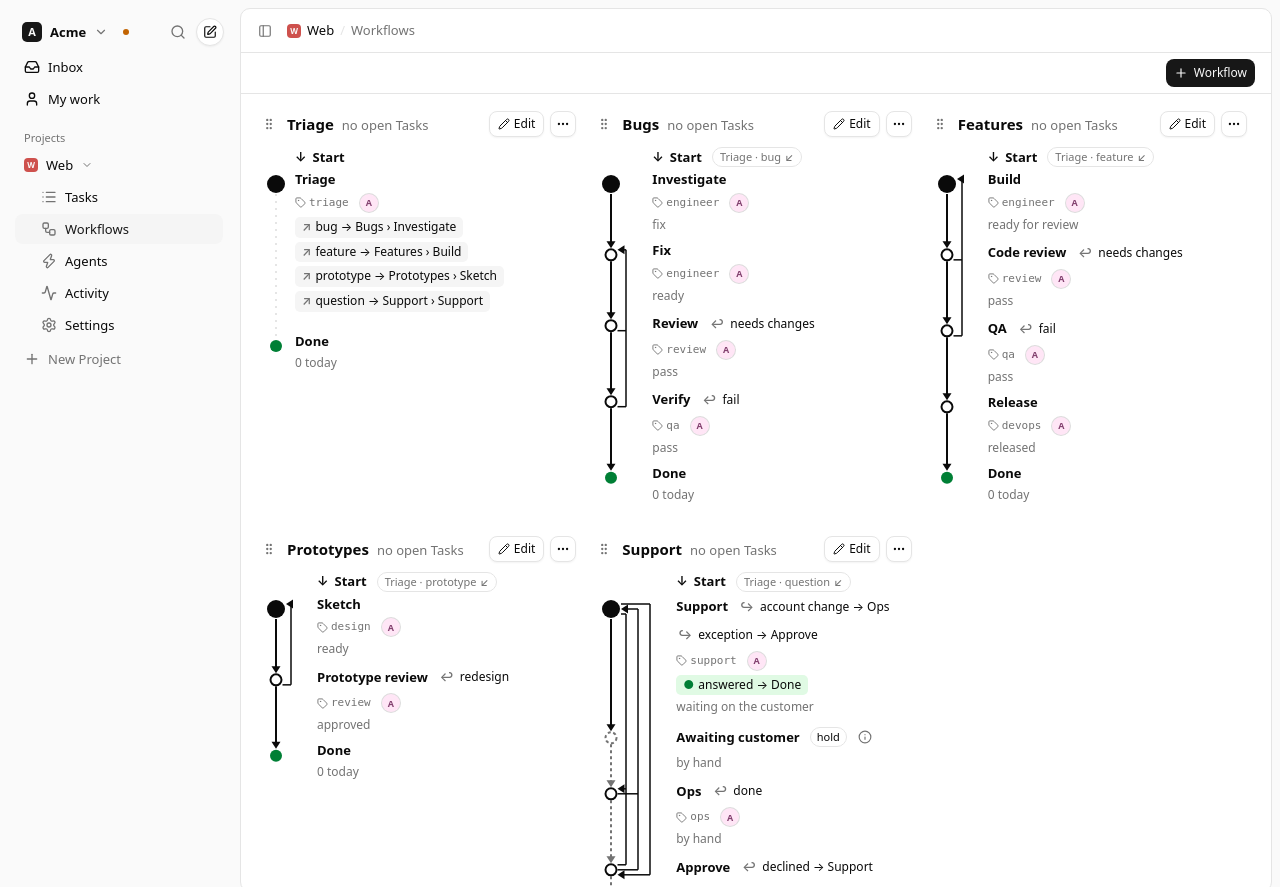
Test: the Workflows page of a Project of several › moves a Workflow later at once and says where New Tasks start when that changes
Click the button named "More for Triage" at (563, 124), box [550,111,576,137]
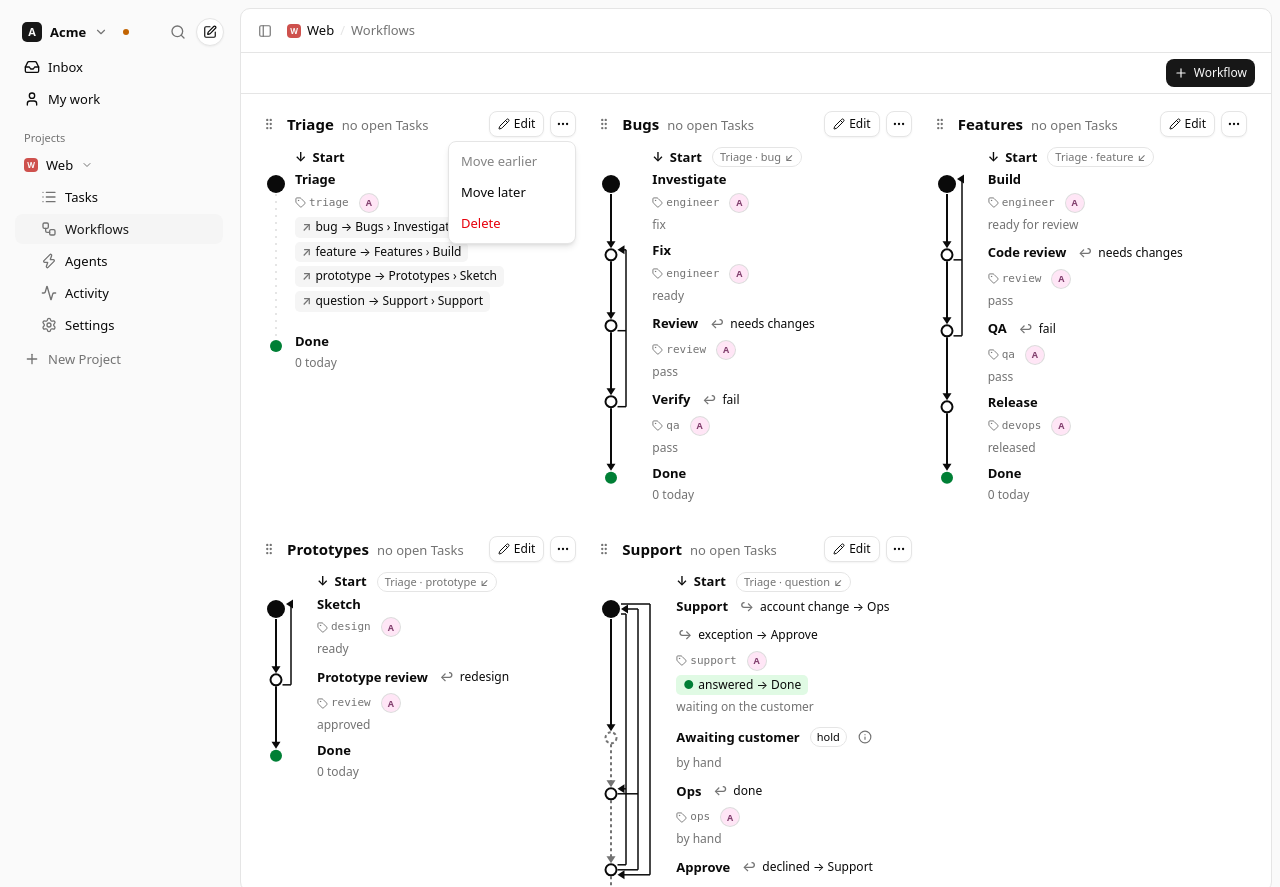
Click the menu item "Move later" at (493, 192), box [461,183,526,201]
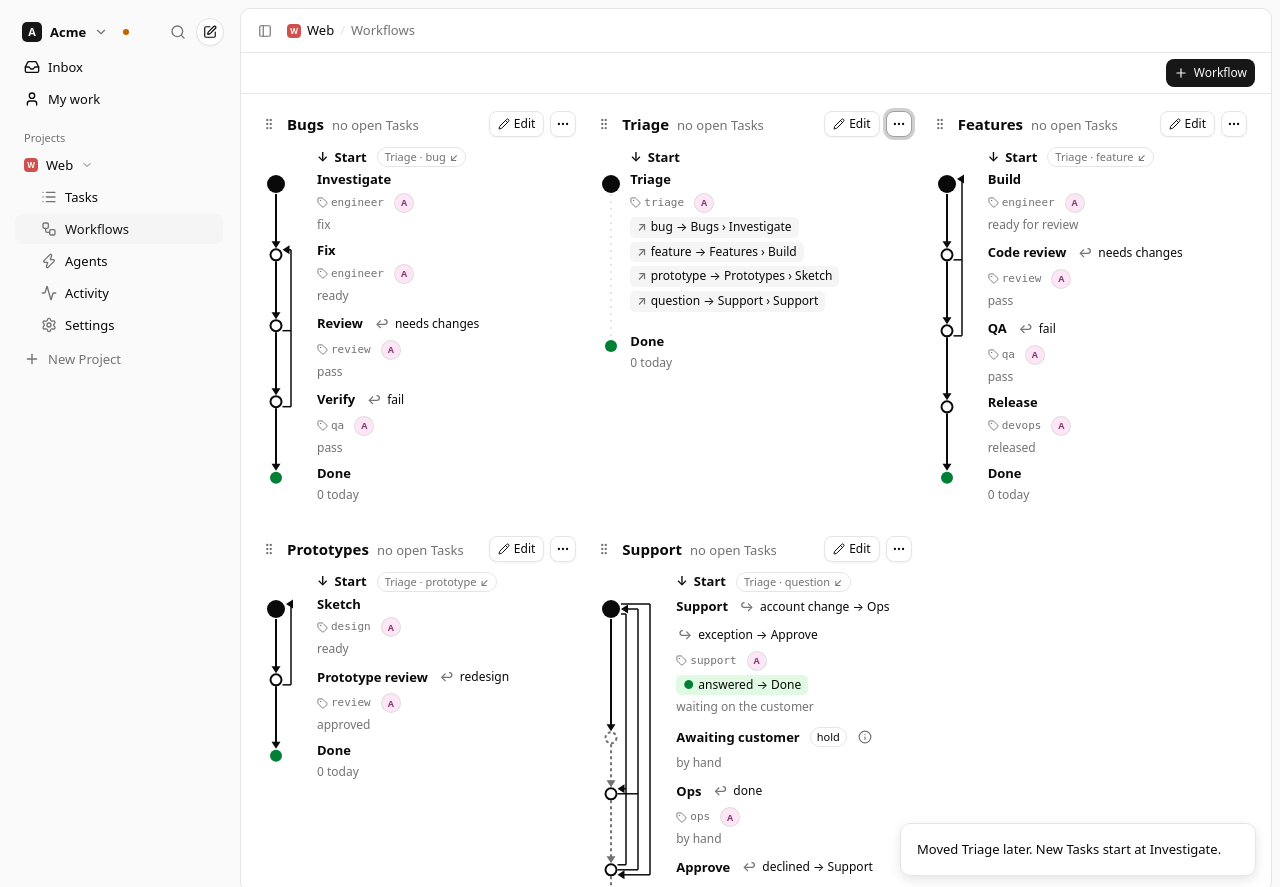
expect the text "Moved Triage later. New Tasks start at Investigate." is shown: met, box [917,840,1221,859]
Click the button named "More for Support" at (899, 548), box [886,536,912,562]
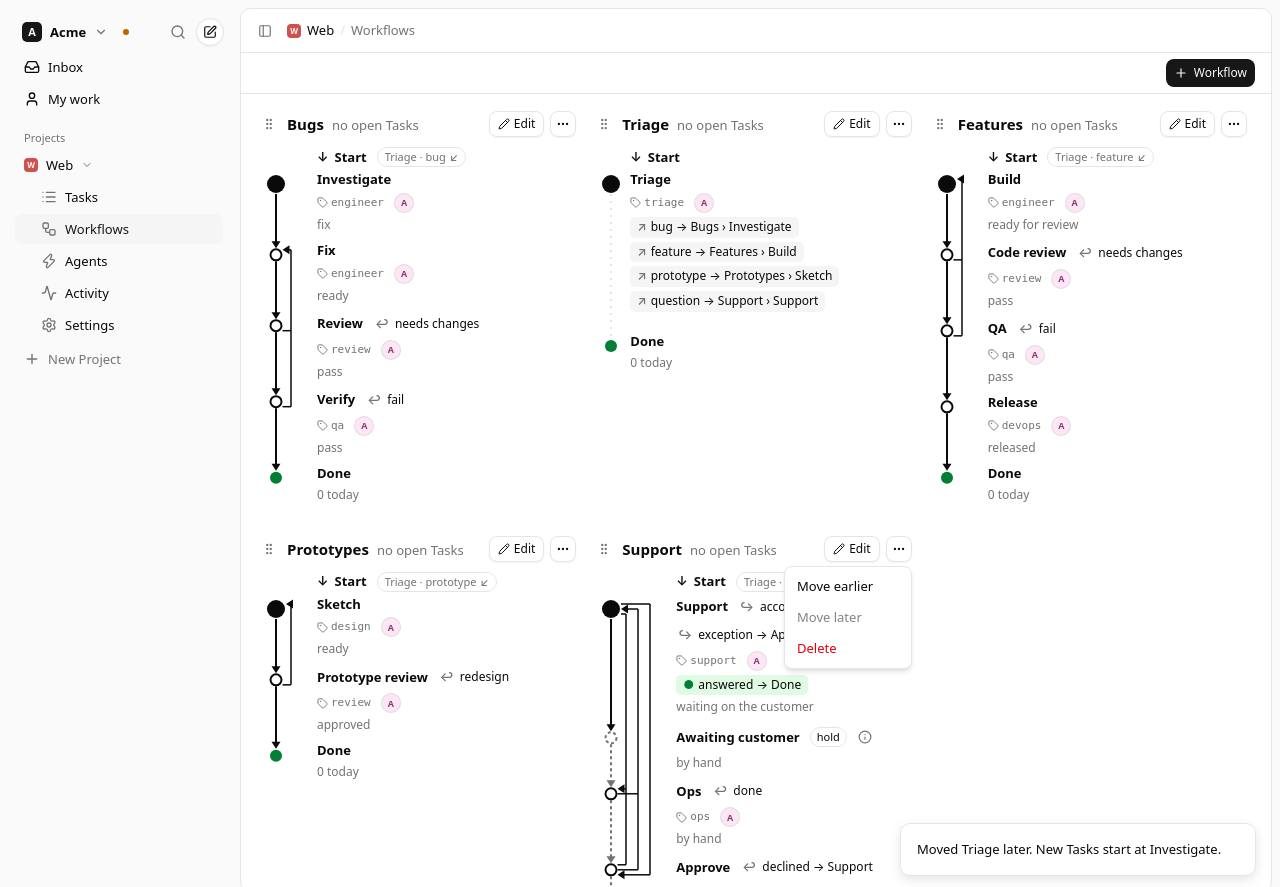
expect the menu item "Move earlier" does not have attribute aria-disabled: met
Click the menu item "Move earlier" at (835, 586), box [797,577,873,595]
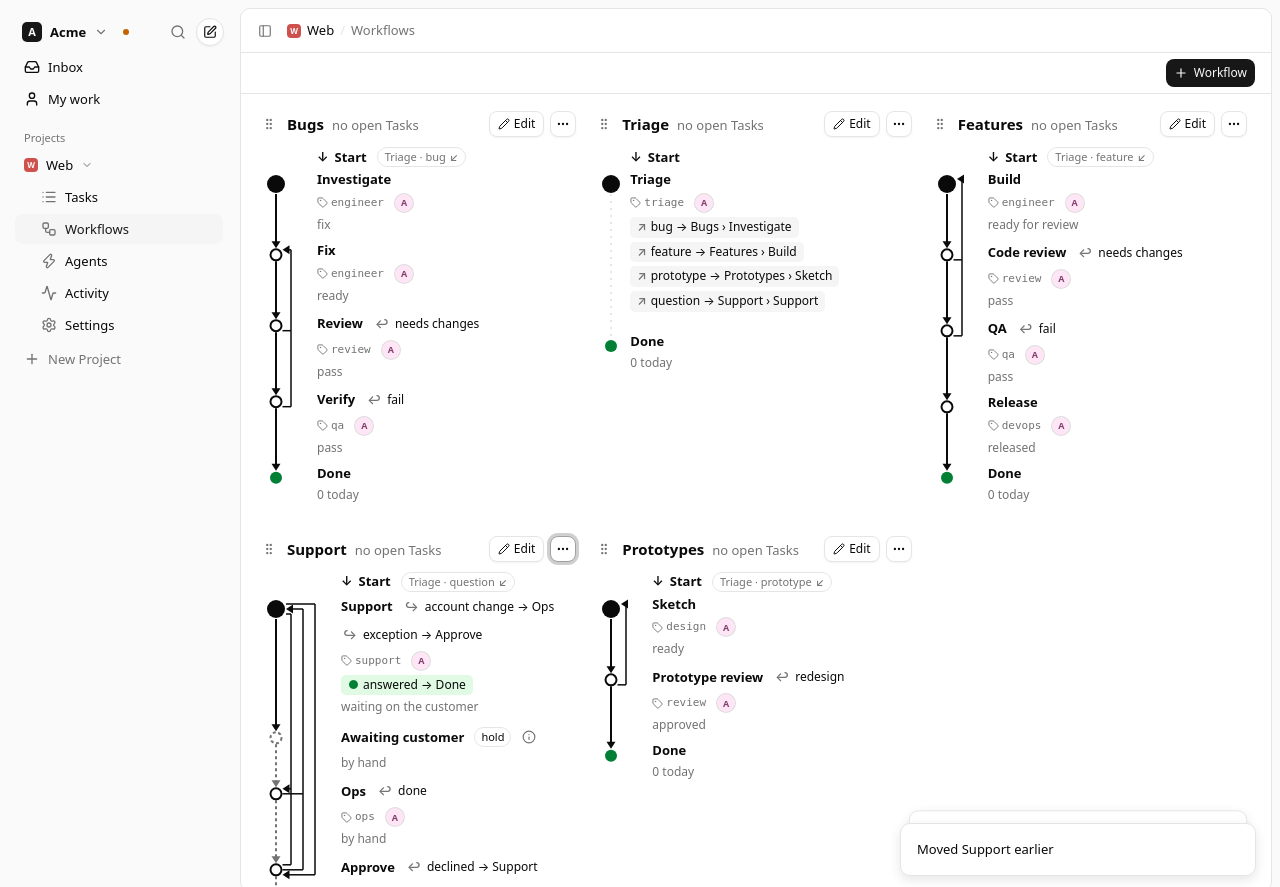
expect the text "Moved Support earlier" is shown: met, box [917,840,1054,859]
